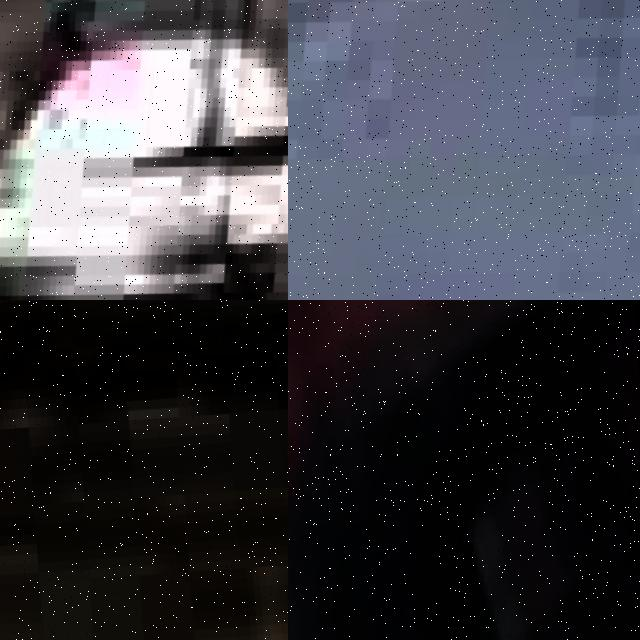drone: (288, 300, 640, 640), (288, 0, 640, 300), (0, 0, 288, 300)
